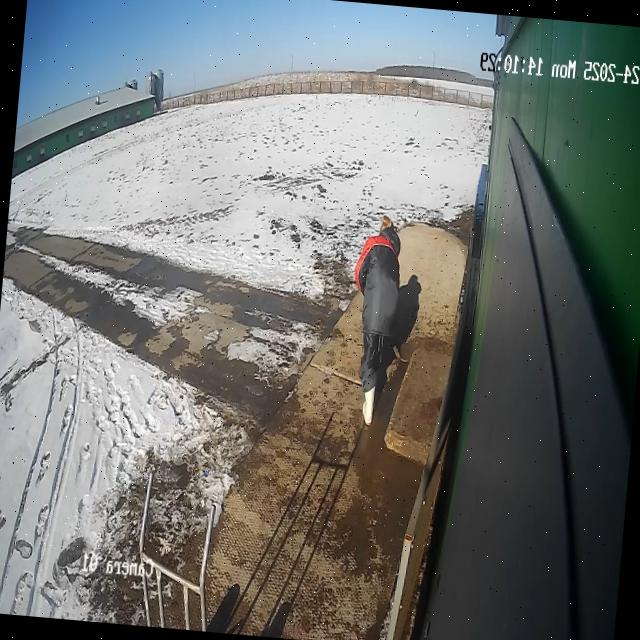Red uniform: (339, 212, 408, 429)
